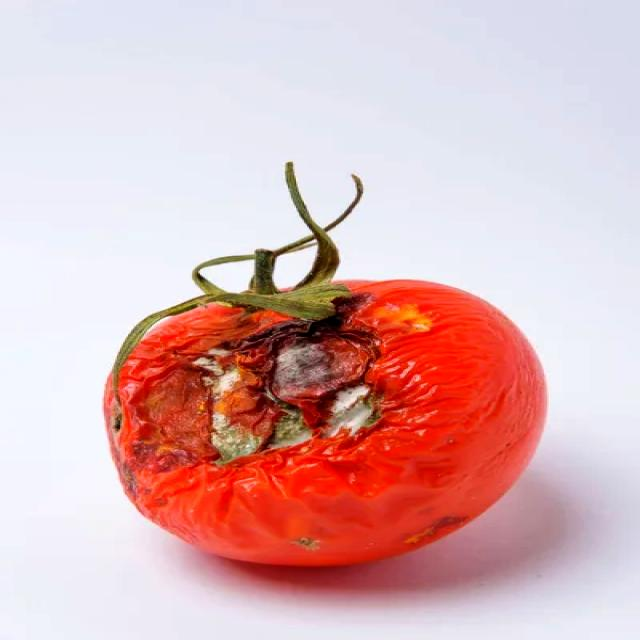rot_lvl2: (191, 327, 383, 463)
